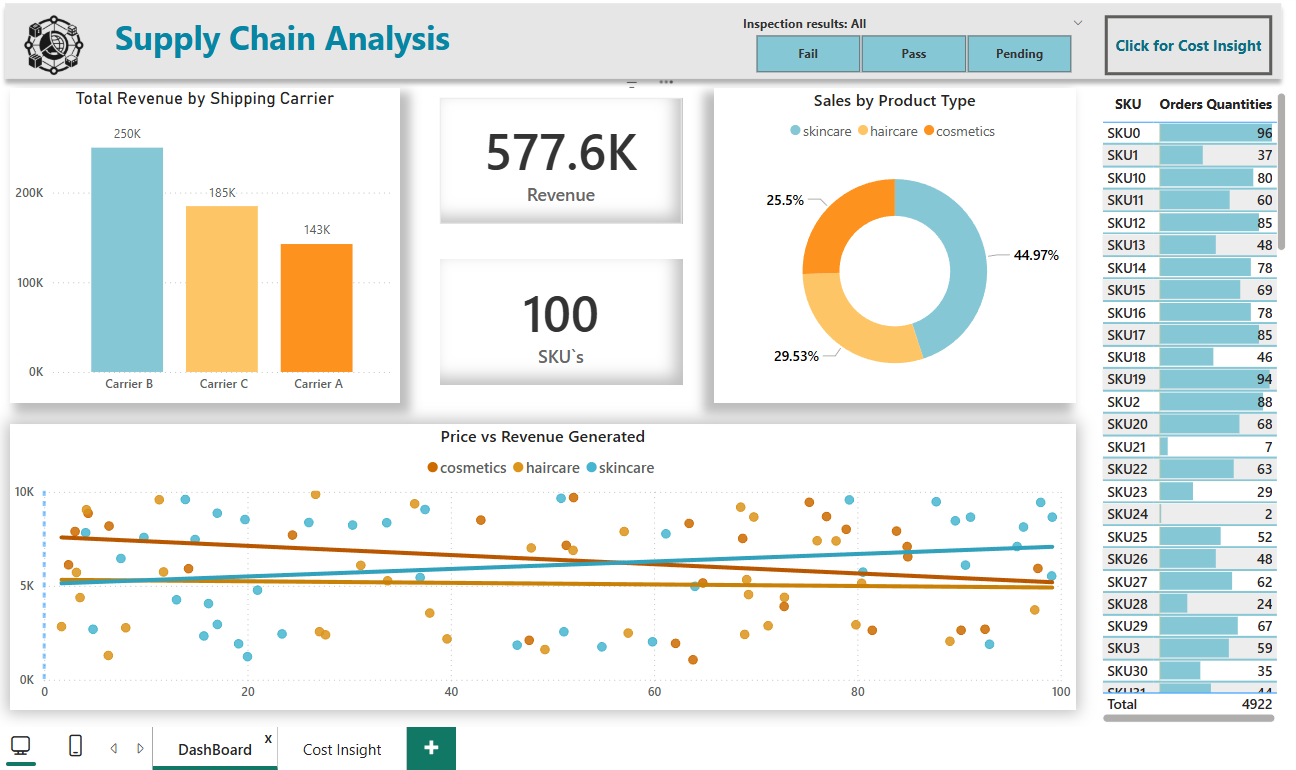

The page's visual inventory and layout, read from the dashboard file:
{"tool":"powerbi","page":{"name":"DashBoard","canvas":[1280,720],"ordinal":0},"visuals":[{"type":"shape","box":[0,0,1271.3,92.1],"z":0,"group":"g1"},{"type":"donutChart","title":"Sales by Product Type","fields":{"Category":["supply_chain_data.Product type"],"Y":["Sum(supply_chain_data.Number of products sold)"]},"box":[704.3,92,355.8,309.2],"z":0},{"type":"clusteredColumnChart","title":"Total Revenue by Shipping Carrier","fields":{"Y":["Sum(supply_chain_data.Revenue generated)"],"Category":["supply_chain_data.Shipping carriers"]},"box":[13.5,92,382.8,309.2],"z":1000},{"type":"tableEx","fields":{"Values":["supply_chain_data.SKU","Sum(supply_chain_data.Order quantities)"]},"box":[1079.8,92,191.4,628.2],"z":2000},{"type":"card","fields":{"Values":["Sum(supply_chain_data.Revenue generated)"]},"box":[435.6,101.8,238,123.9],"z":3000},{"type":"scatterChart","title":"Price  vs Revenue Generated","fields":{"X":["supply_chain_data.Price"],"Y":["supply_chain_data.Revenue generated"],"Series":["supply_chain_data.Product type"]},"box":[13.5,422.1,1046.6,281],"z":4000},{"type":"textbox","box":[112,16.2,352,58.5],"z":5000,"group":"g1"},{"type":"card","fields":{"Values":["Count(supply_chain_data.SKU)"]},"box":[435.6,260.1,238,123.9],"z":5000},{"type":"group","id":"g1","title":"Group 1","box":[0,0,1271.3,92.1],"z":6000},{"type":"actionButton","title":"Click For Home Page","box":[1088.3,20.9,164.4,58.9],"z":7000},{"type":"slicer","fields":{"Values":["supply_chain_data.Inspection results"]},"box":[720.2,16,359.5,67.5],"z":8000,"group":"g1"},{"type":"image","box":[1.2,12.4,110.7,75.9],"z":9000,"group":"g1"}]}

Visuals, with their boxes on the page's 1280x720 design canvas (x1, y1, x2, y2). These are canvas units, not pixel positions in the 1296x770 screenshot, which may show the page scaled, cropped or inside an application window:
shape: bbox=(0, 0, 1271, 92)
"Sales by Product Type" donutChart: bbox=(704, 92, 1060, 401)
"Total Revenue by Shipping Carrier" clusteredColumnChart: bbox=(14, 92, 396, 401)
tableEx - supply_chain_data.SKU x Sum(supply_chain_data.Order quantities): bbox=(1080, 92, 1271, 720)
card - Sum(supply_chain_data.Revenue generated): bbox=(436, 102, 674, 226)
"Price  vs Revenue Generated" scatterChart: bbox=(14, 422, 1060, 703)
textbox: bbox=(112, 16, 464, 75)
card - Count(supply_chain_data.SKU): bbox=(436, 260, 674, 384)
"Group 1" group: bbox=(0, 0, 1271, 92)
"Click For Home Page" actionButton: bbox=(1088, 21, 1253, 80)
slicer - supply_chain_data.Inspection results: bbox=(720, 16, 1080, 84)
image: bbox=(1, 12, 112, 88)
